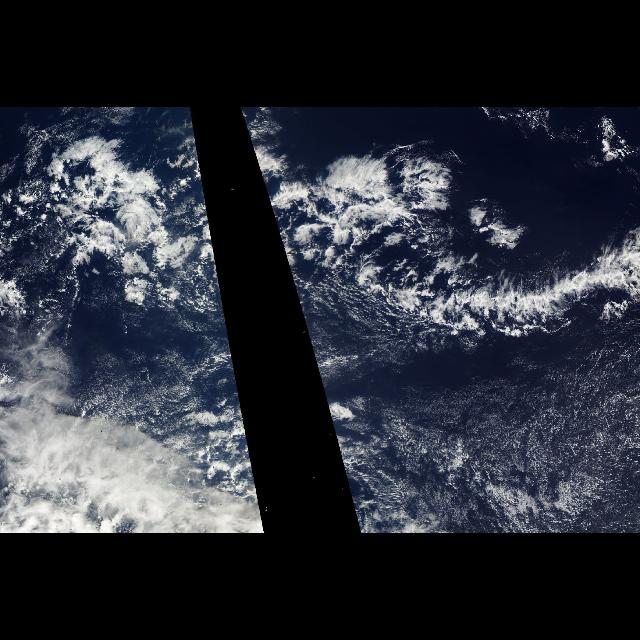Fish: (241, 110, 639, 374), (1, 110, 235, 374)
Sugar: (320, 347, 640, 533)
